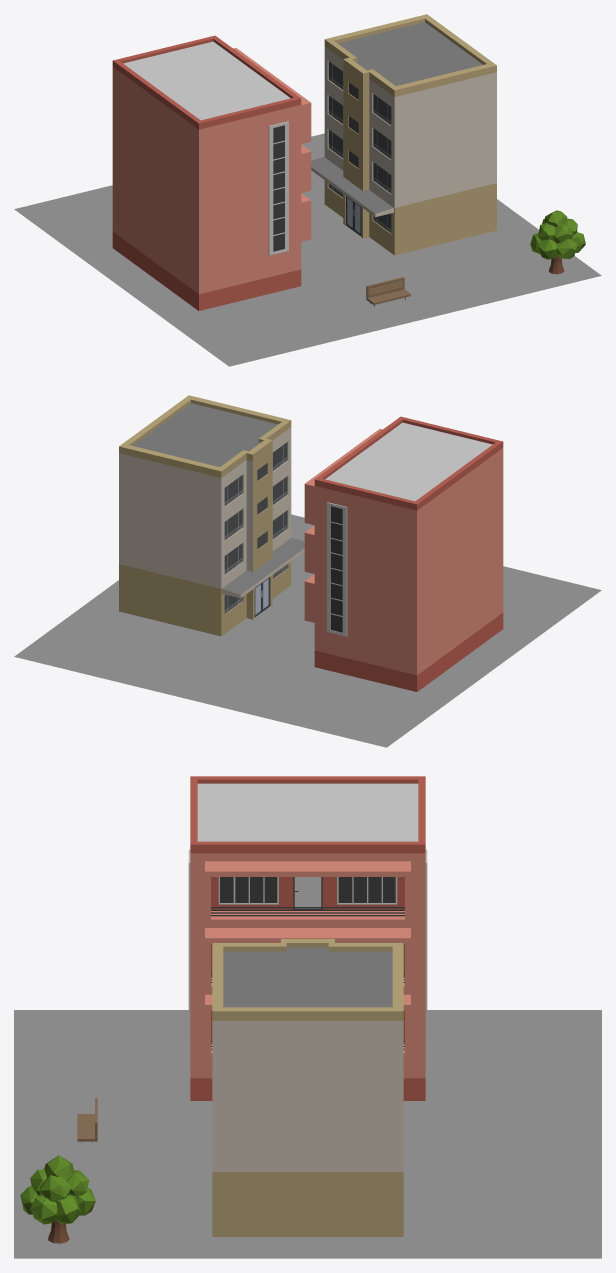
Rendered from remix-residential-towers.glb.
3 renders of one model, top to bottom at view 1: azimuth 30°, elevation 25°; view 2: azimuth 150°, elevation 25°; view 3: azimuth 270°, elevation 25°, orthographic. The views are drawn at different scales.
Parts seen in each view (by area): view 1: Building_Residential_color01_Cube.013, Road Concrete Tile_Plane.010, Building Sky_small_color01_Cube.028, Natures_Big Tree_Mesh.008, Props_Bench_2_Cube.022; view 2: Building_Residential_color01_Cube.013, Road Concrete Tile_Plane.010, Building Sky_small_color01_Cube.028; view 3: Road Concrete Tile_Plane.010, Building Sky_small_color01_Cube.028, Building_Residential_color01_Cube.013, Natures_Big Tree_Mesh.008, Props_Bench_2_Cube.022.
Boxes of the visible parts, <box> form: Building_Residential_color01_Cube.013: <box>112,35,311,310</box>; Road Concrete Tile_Plane.010: <box>14,133,601,366</box>; Building Sky_small_color01_Cube.028: <box>311,14,496,255</box>; Natures_Big Tree_Mesh.008: <box>530,210,585,274</box>; Props_Bench_2_Cube.022: <box>366,277,410,307</box>; Building_Residential_color01_Cube.013: <box>304,416,503,691</box>; Road Concrete Tile_Plane.010: <box>14,514,601,747</box>; Building Sky_small_color01_Cube.028: <box>119,395,304,636</box>; Road Concrete Tile_Plane.010: <box>14,1010,601,1258</box>; Building Sky_small_color01_Cube.028: <box>212,939,403,1236</box>; Building_Residential_color01_Cube.013: <box>188,776,427,1100</box>; Natures_Big Tree_Mesh.008: <box>20,1155,95,1243</box>; Props_Bench_2_Cube.022: <box>77,1098,97,1144</box>.
Bounding box in the file's own units: 40 × 19.24 × 40.
Materials: 5 (5 with a texture image).
